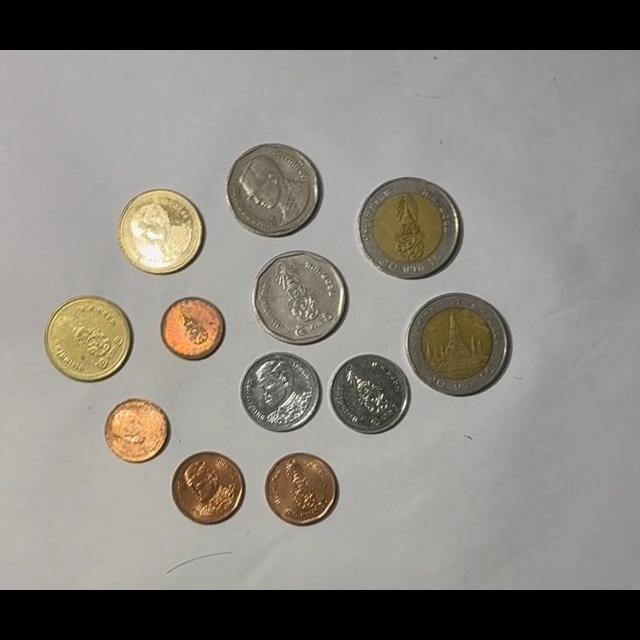1-baht: (239, 351, 322, 432), (329, 354, 410, 435)
10-baht: (405, 292, 510, 396), (356, 177, 461, 279)
2-baht: (44, 295, 132, 383), (116, 189, 204, 276)
25-satang: (104, 398, 171, 464), (160, 296, 225, 360)
5-baht: (253, 250, 348, 346), (225, 143, 321, 237)
50-satang: (264, 453, 339, 527), (171, 451, 246, 525)
